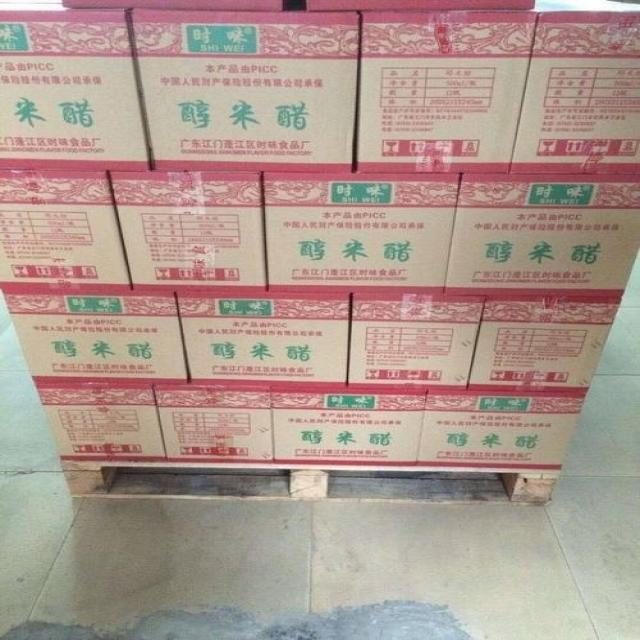box: (124, 1, 360, 173), (357, 10, 538, 174), (0, 1, 151, 173), (264, 170, 462, 294), (444, 174, 639, 297), (509, 1, 640, 174), (109, 170, 268, 292), (174, 290, 352, 389), (3, 291, 188, 383), (0, 170, 132, 290), (468, 296, 622, 391), (416, 389, 586, 474), (273, 385, 426, 472), (348, 294, 485, 391), (35, 382, 168, 468), (151, 381, 274, 470), (305, 0, 536, 12), (64, 0, 283, 11)
